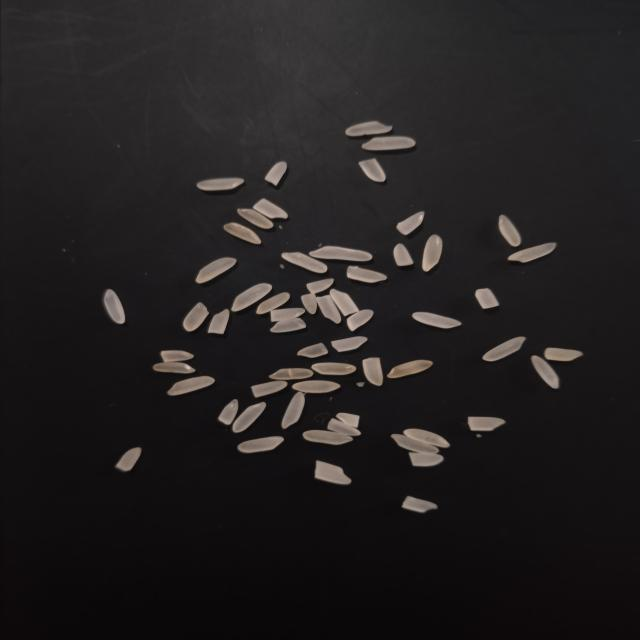Broken: (314, 458, 352, 484), (184, 301, 210, 332), (346, 266, 387, 284), (254, 199, 289, 220), (358, 158, 385, 183), (402, 495, 440, 512), (332, 412, 362, 432), (364, 356, 384, 385), (207, 308, 229, 334), (467, 417, 505, 432), (265, 161, 287, 186), (476, 287, 501, 309), (393, 244, 413, 266)
Full: (232, 282, 273, 311), (390, 434, 444, 455), (231, 402, 267, 433), (484, 337, 527, 362), (195, 258, 236, 284), (403, 429, 451, 450), (280, 251, 327, 272), (507, 242, 556, 262), (168, 376, 216, 396), (530, 355, 558, 388), (222, 222, 262, 245), (281, 392, 305, 430), (413, 310, 463, 328), (388, 358, 434, 377), (238, 437, 286, 455), (303, 429, 356, 445), (331, 287, 360, 316), (421, 234, 443, 272), (258, 292, 292, 316), (102, 290, 125, 325), (238, 208, 275, 229), (500, 213, 523, 246), (361, 136, 415, 150), (396, 211, 426, 235), (346, 122, 393, 137), (318, 296, 342, 325), (116, 447, 143, 472), (292, 381, 341, 394), (311, 361, 356, 375), (197, 177, 245, 190), (346, 309, 374, 331), (268, 366, 314, 379), (332, 337, 368, 353), (544, 348, 584, 361), (410, 452, 444, 467), (154, 361, 196, 373), (302, 293, 318, 313)
